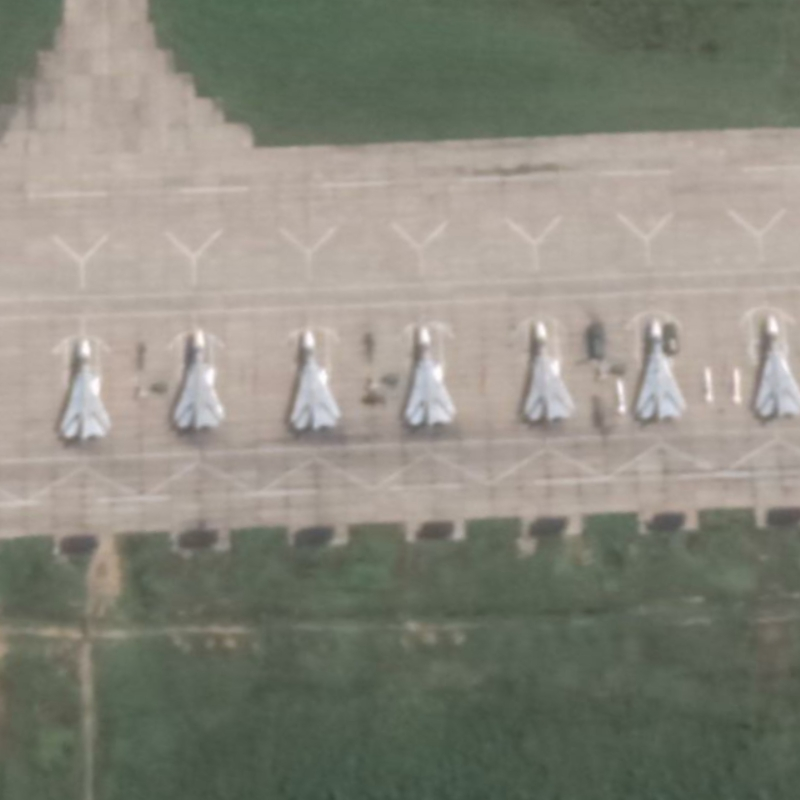A20: (57, 337, 115, 441), (170, 328, 228, 431), (287, 327, 343, 433), (633, 317, 688, 423), (402, 326, 459, 428), (522, 319, 576, 424), (753, 313, 800, 419)
